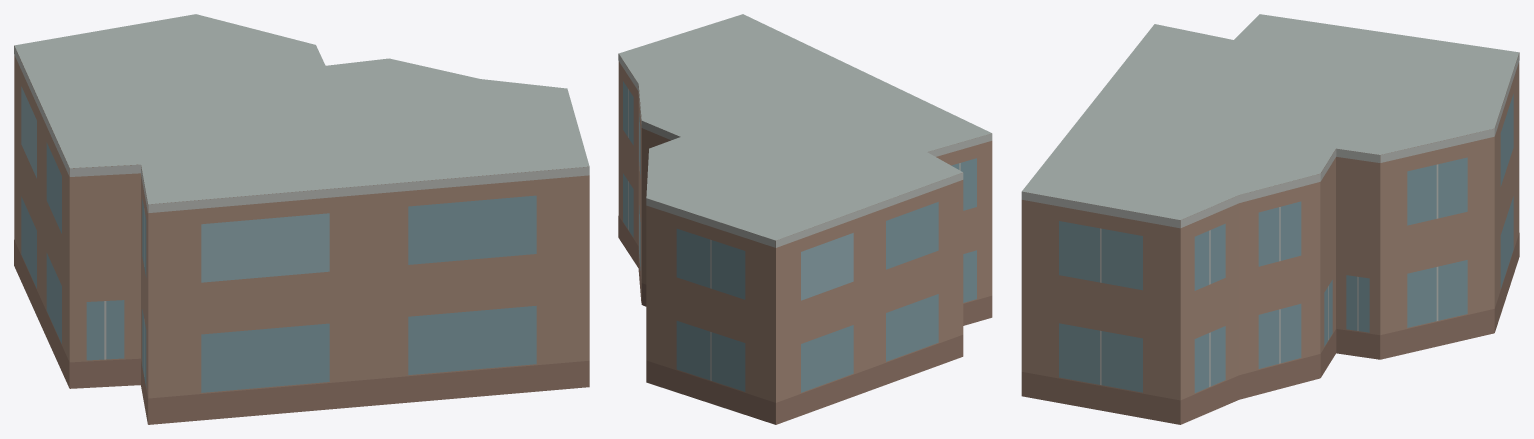
The model's file is survey-upis-33007541.glb.
3 views of the same model, side by side, from view 1: azimuth 30°, elevation 25°; view 2: azimuth 150°, elevation 25°; view 3: azimuth 270°, elevation 25° (orthographic). The views are drawn at different scales.
Visible parts, largest first — view 1: survey-upis-33007541.tmp; view 2: survey-upis-33007541.tmp; view 3: survey-upis-33007541.tmp.
Boxes of the visible parts, x1=… form: survey-upis-33007541.tmp: x1=14, y1=14, x2=589, y2=424; survey-upis-33007541.tmp: x1=618, y1=14, x2=992, y2=424; survey-upis-33007541.tmp: x1=1021, y1=14, x2=1519, y2=424.
Bounding box in the file's own units: 13.19 × 6.1 × 13.45.
